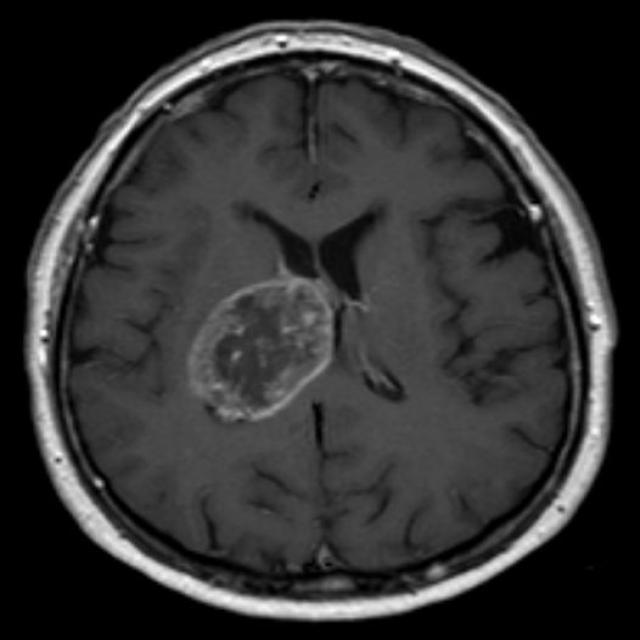Tumor-Cell: (179, 278, 340, 422)
